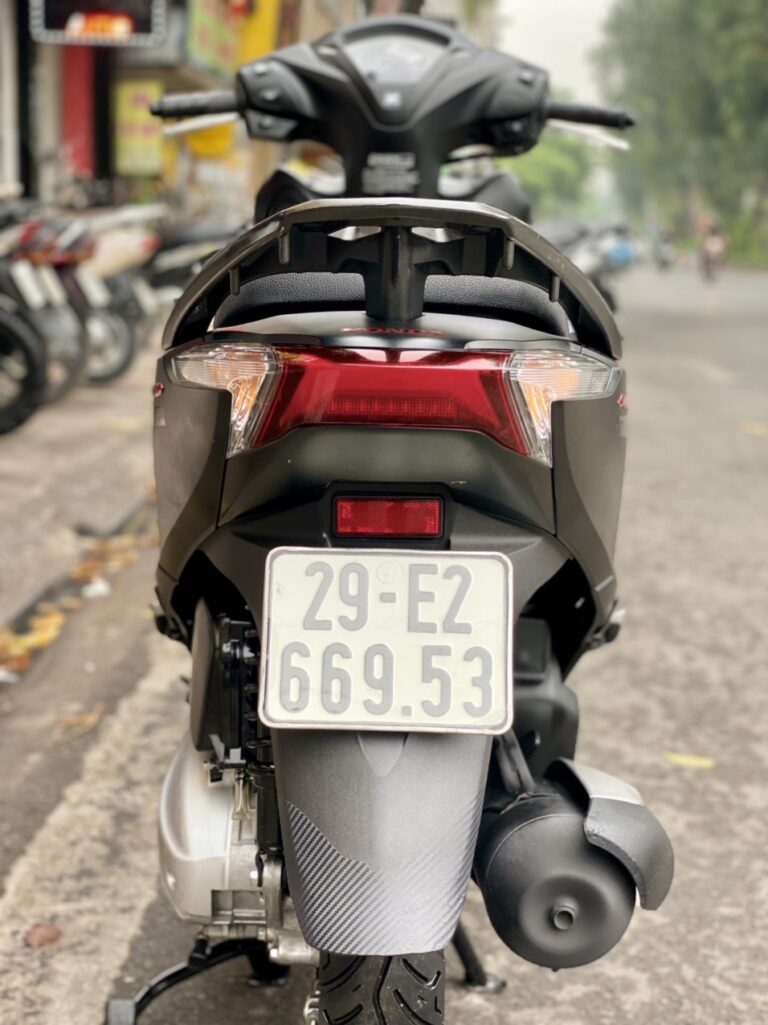bien_so: (248, 539, 522, 742)
